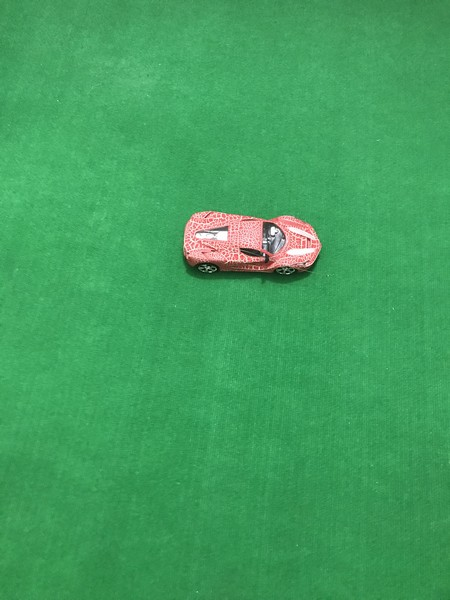RC: (179, 208, 323, 279)
